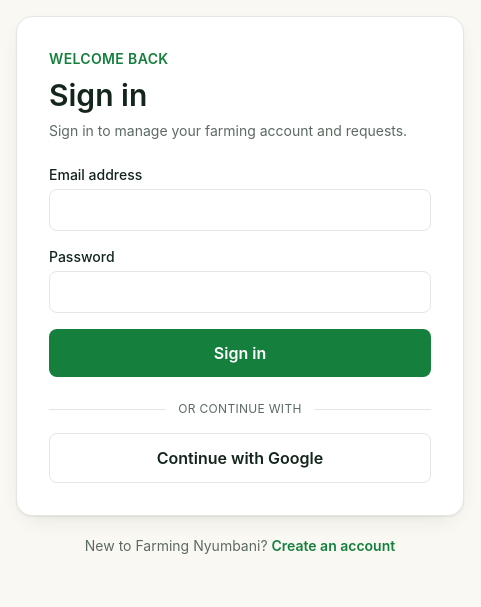
Login › shows the mapped message when sign-in fails
In the field labelled "Email address": (240, 210) [49,189,431,231], type "farmer@example.com"
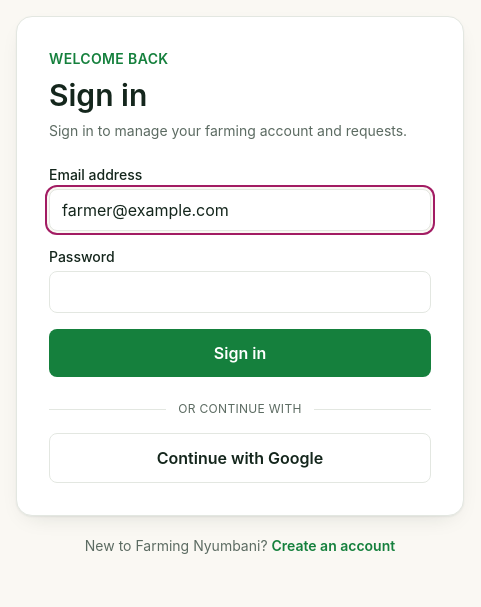
In the password field labelled "Password": (240, 292) [49,271,431,313], type "wrong-pass"
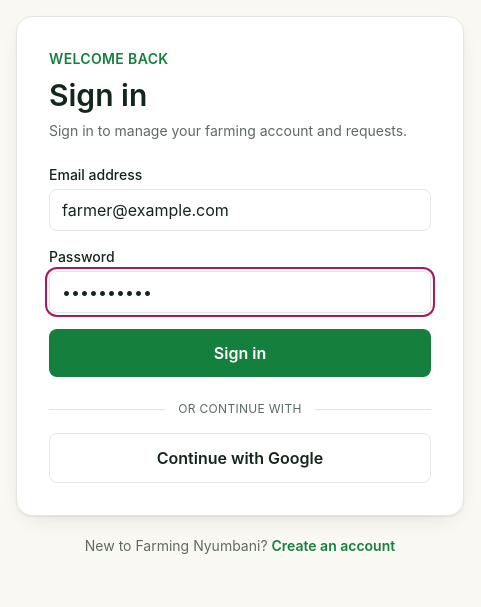
Click the button "Sign in": click(240, 353) [49,329,431,377]
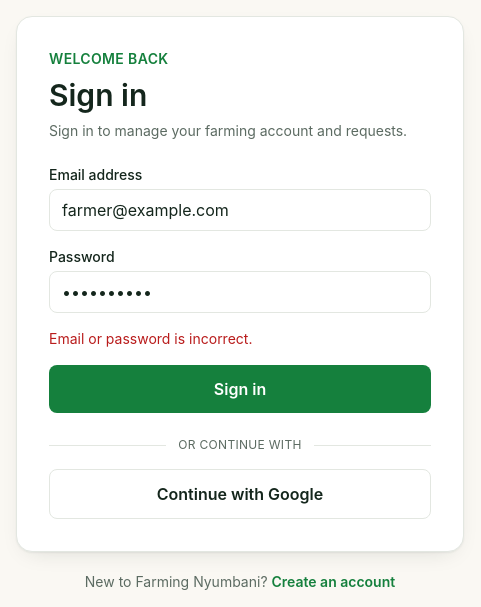
Expected: the message reads "Email or password is incorrect.", [49,330,252,347]
